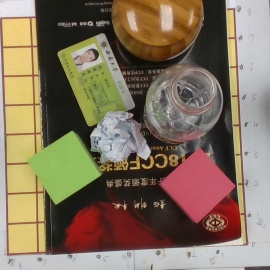bottle: (144, 65, 223, 145)
card: (56, 33, 135, 126)
chess: (111, 1, 205, 59)
